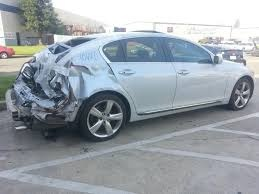Dent: (88, 61, 117, 92)
Smashed: (5, 39, 93, 132)
